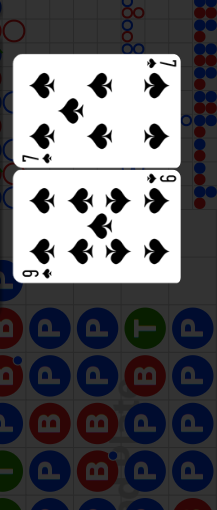7S: (144, 57, 178, 70)
9S: (21, 267, 54, 280)
